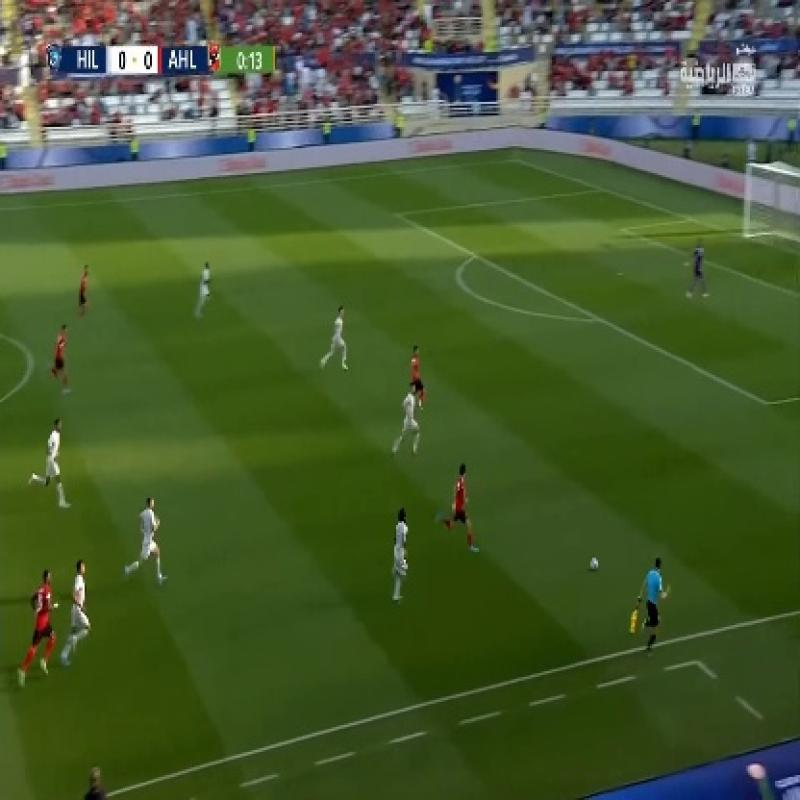1: (500, 150, 525, 168)
10: (460, 241, 486, 268)
11: (589, 306, 608, 329)
12: (754, 384, 779, 418)
2: (586, 177, 612, 198)
3: (677, 208, 698, 229)
7: (610, 217, 636, 241)
9: (388, 202, 408, 223)
c: (13, 344, 47, 384)
